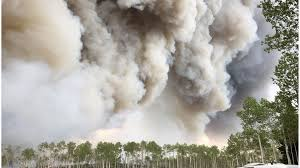smoke: (1, 1, 234, 111)
